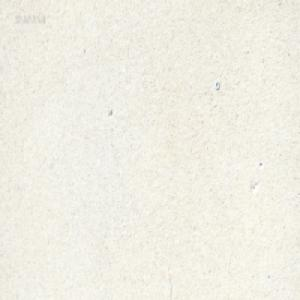Washer: (214, 78, 220, 89)
